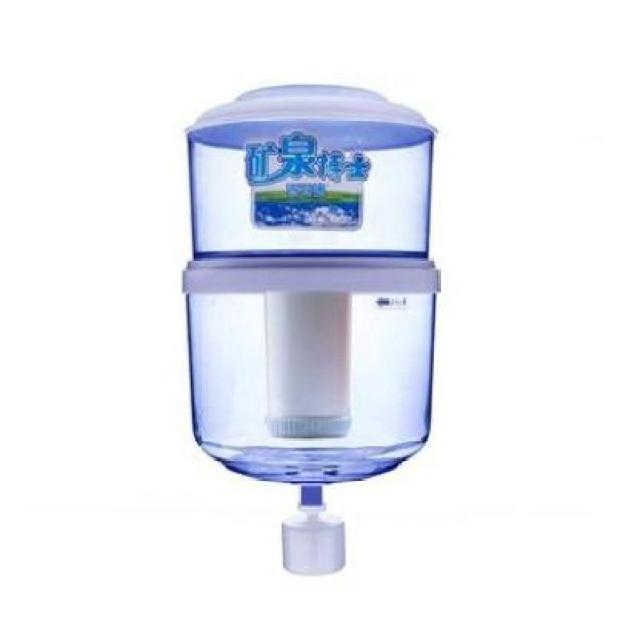coolerbottle: (174, 78, 445, 497)
